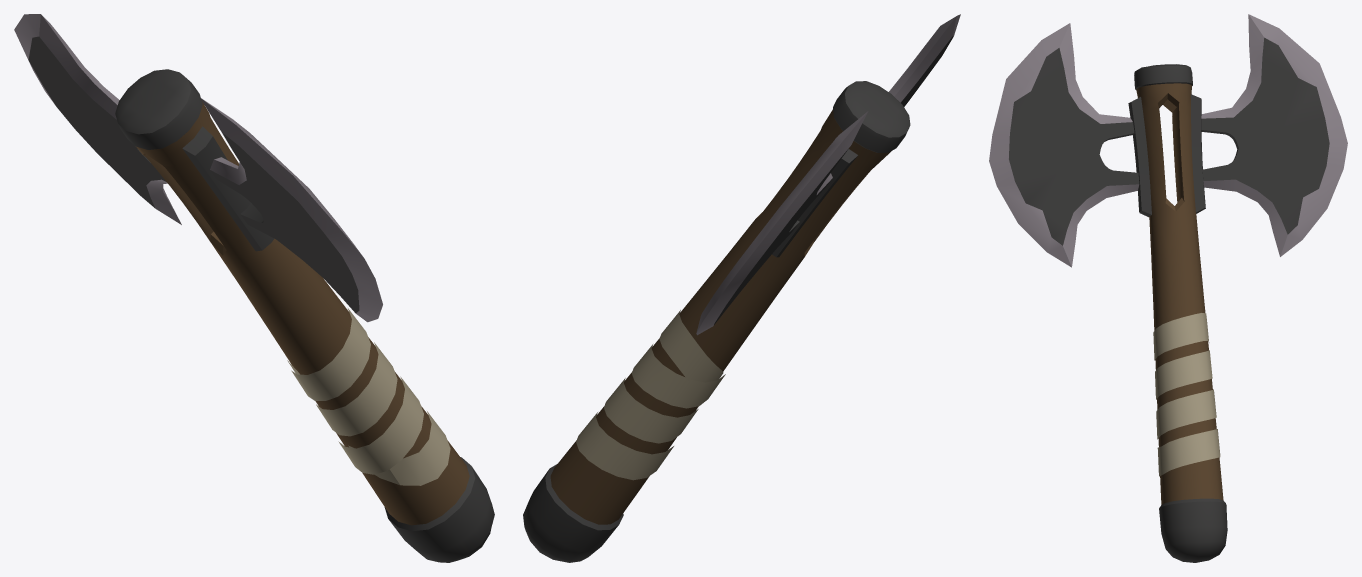
File: axe.glb
The picture shows the model from 3 angles, left to right: view 1: azimuth 30°, elevation 25°; view 2: azimuth 150°, elevation 25°; view 3: azimuth 270°, elevation 25°; orthographic projection. The views are drawn at different scales.
Visible parts, largest first — view 1: Weapon_DoubleAxe; view 2: Weapon_DoubleAxe; view 3: Weapon_DoubleAxe.
Part boxes in pixels (x1=…): Weapon_DoubleAxe: x1=14, y1=14, x2=494, y2=562; Weapon_DoubleAxe: x1=523, y1=14, x2=960, y2=562; Weapon_DoubleAxe: x1=989, y1=14, x2=1347, y2=562.
Size of the model in its own units: 0.602 by 0.8573 by 0.6563.
1 material, 1 textured.
